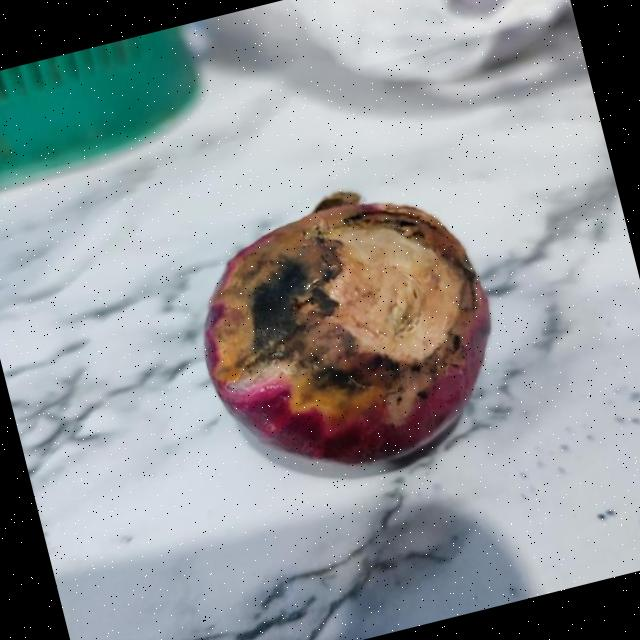Onion: (206, 193, 491, 463)
